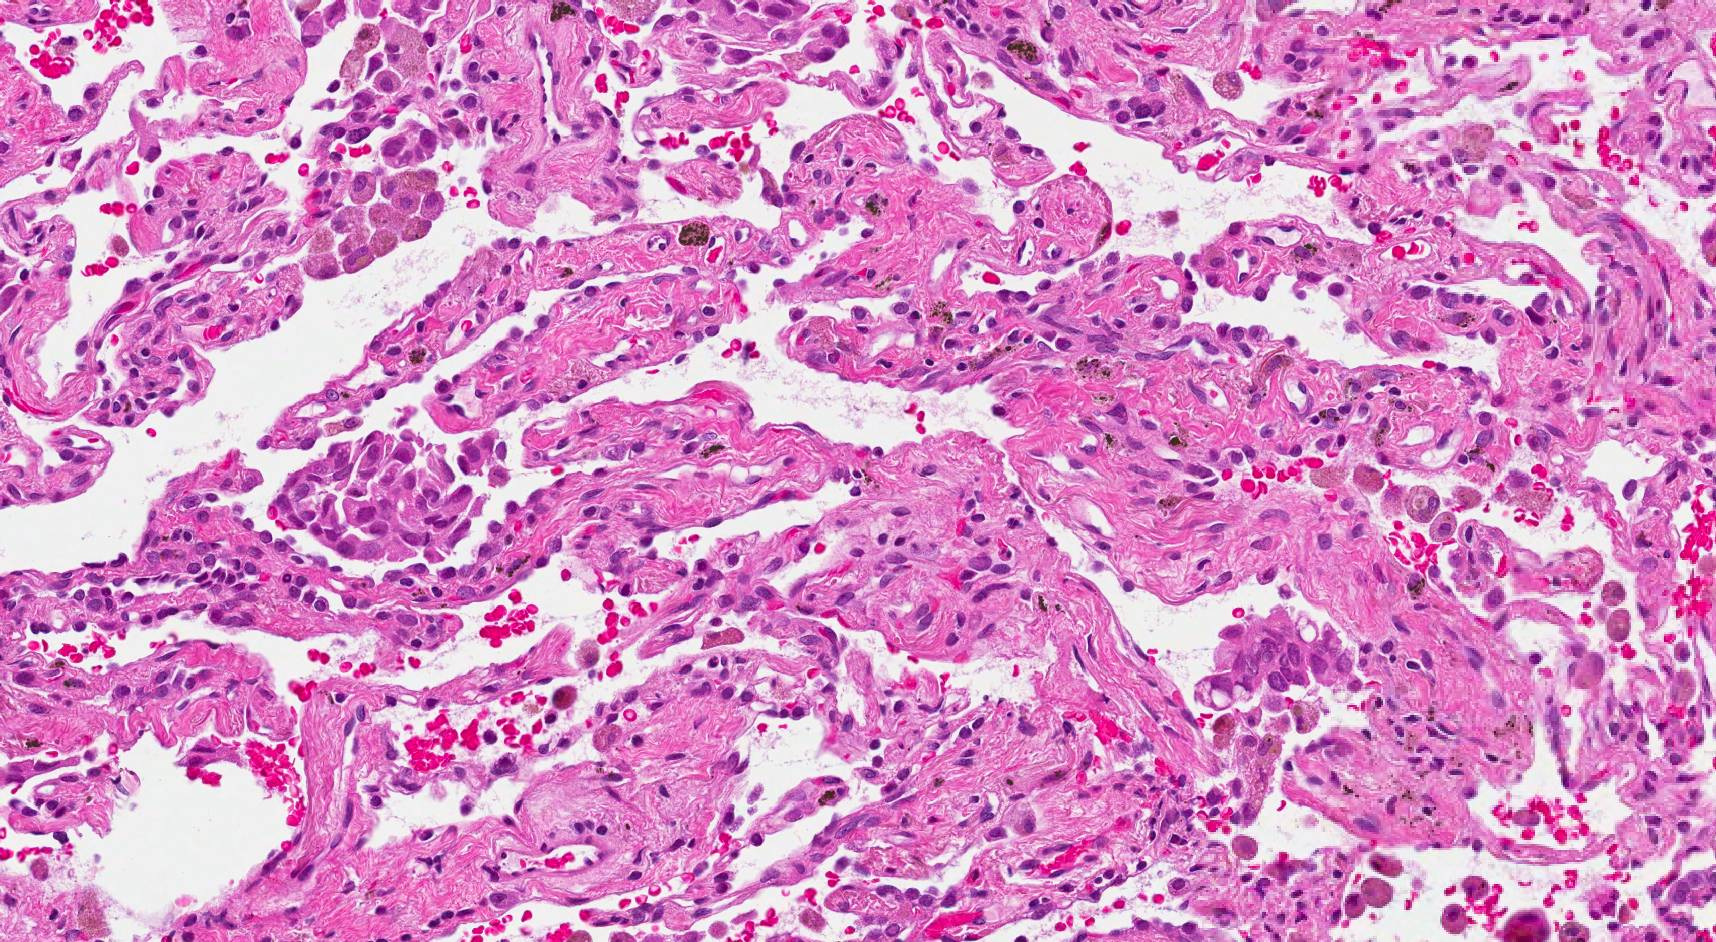stas: (266, 429, 509, 562), (1190, 604, 1367, 711), (375, 120, 442, 169)
